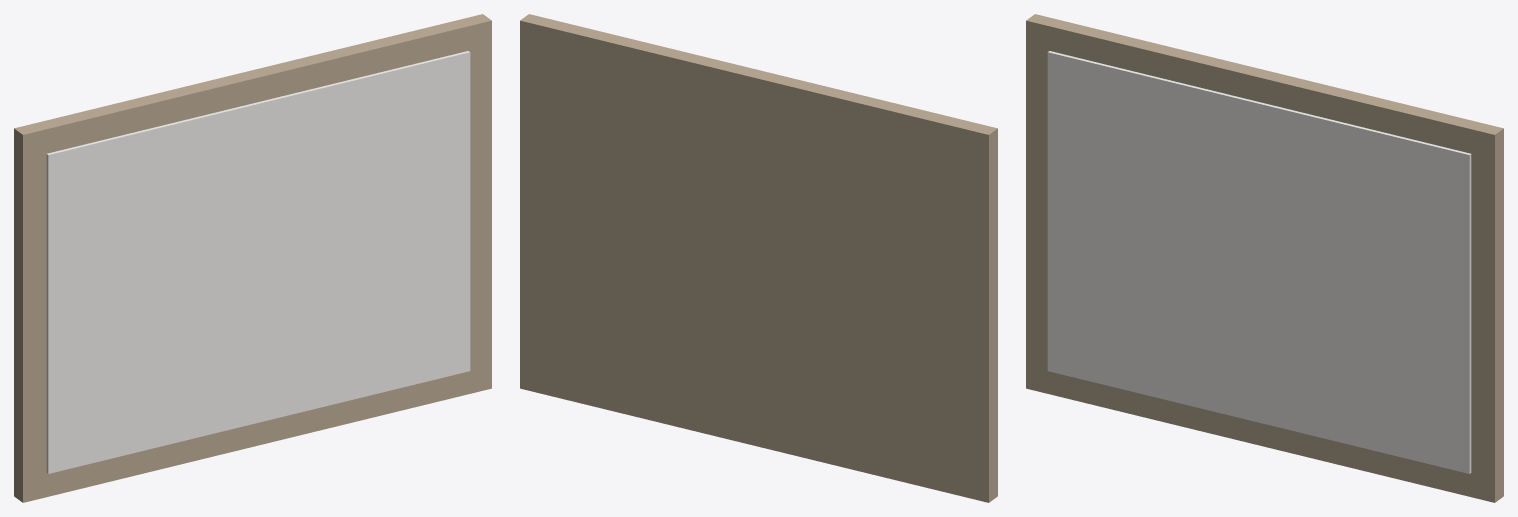
The model's file is Card_Image.fbx.
3 renders of one model, left to right at view 1: azimuth 30°, elevation 25°; view 2: azimuth 150°, elevation 25°; view 3: azimuth 330°, elevation 25°, orthographic.
Visible parts, largest first — view 1: Card_Image; view 2: Card_Image; view 3: Card_Image.
Boxes of the visible parts, x1,y1,x2,y2 form: Card_Image: [14, 14, 491, 502]; Card_Image: [520, 14, 997, 502]; Card_Image: [1026, 14, 1503, 502].
Size of the model in its own units: 0.3 by 0.225 by 0.012.
